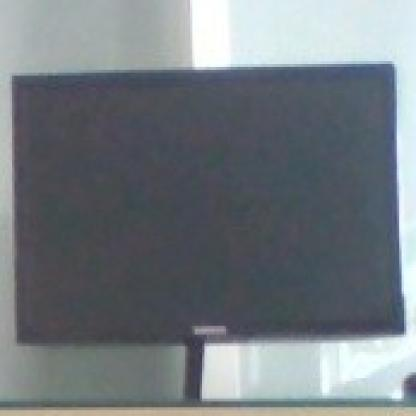not trash: (10, 64, 411, 416)
